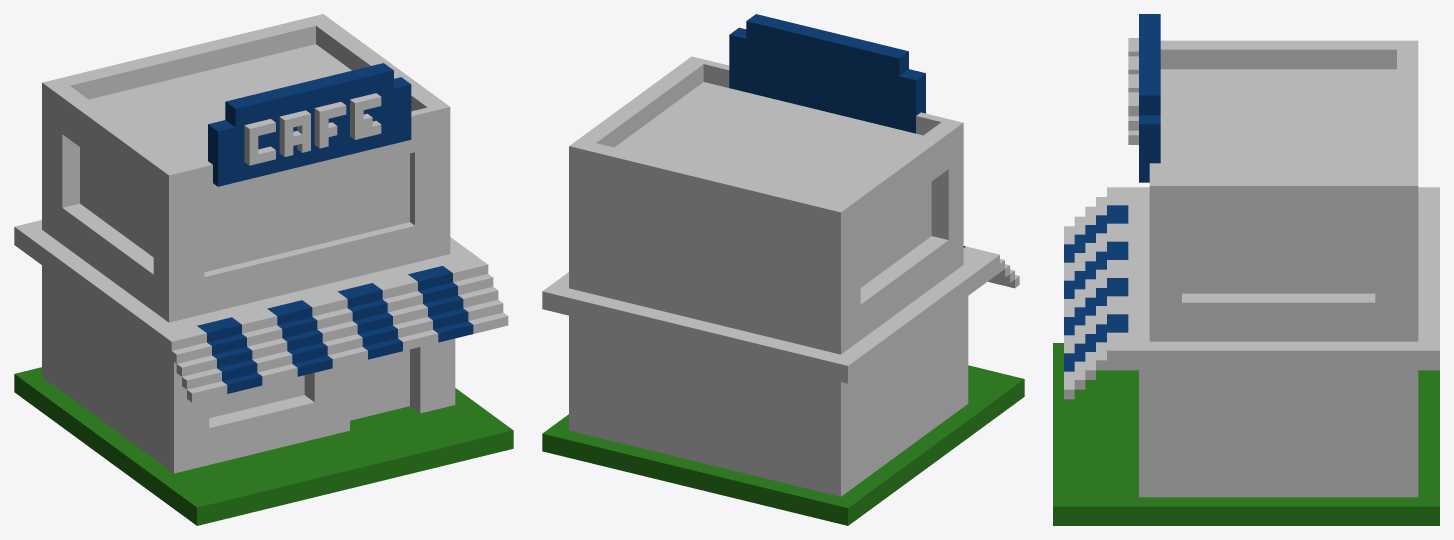
The picture shows the model from 3 angles, left to right: view 1: azimuth 30°, elevation 25°; view 2: azimuth 150°, elevation 25°; view 3: azimuth 270°, elevation 25°; orthographic projection. The views are drawn at different scales.
Visible parts, largest first — view 1: cafe_9; view 2: cafe_9; view 3: cafe_9.
Part boxes in pixels (box(x1,y1,x2,y2)): cafe_9: box(14, 14, 513, 525); cafe_9: box(542, 14, 1024, 525); cafe_9: box(1053, 14, 1439, 525).
Size of the model in its own units: 4.5 by 5 by 4.5.
